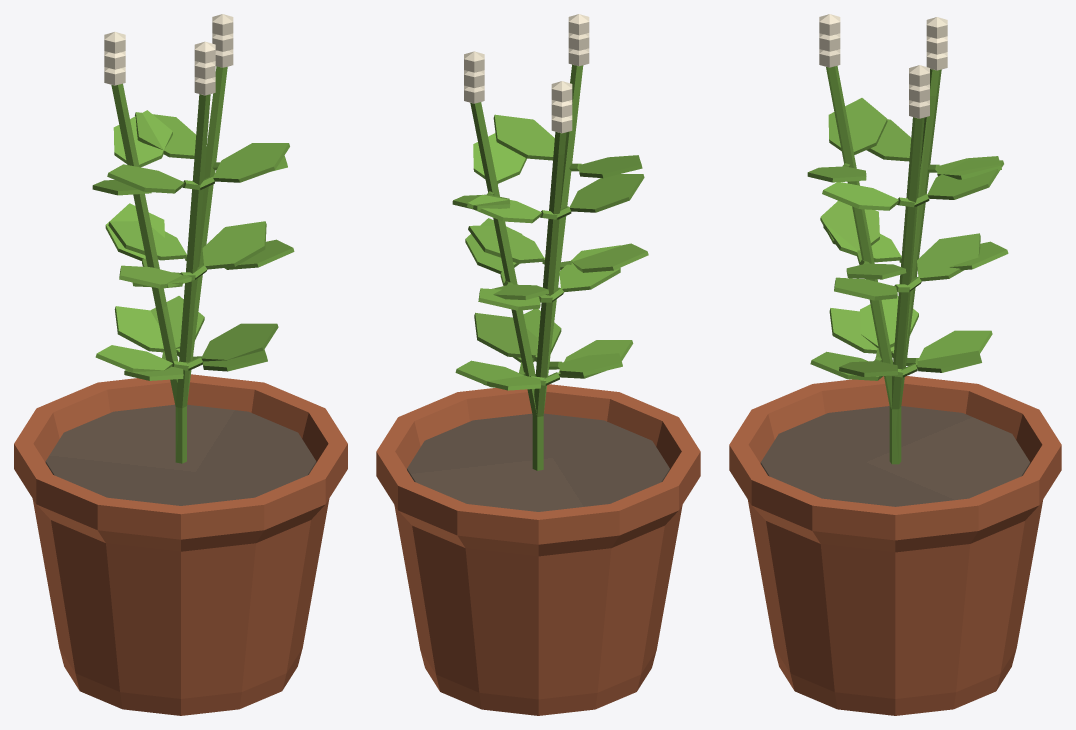
The model's file is basil.glb.
3 views of the same model, side by side, from view 1: azimuth 30°, elevation 25°; view 2: azimuth 150°, elevation 25°; view 3: azimuth 270°, elevation 25° (orthographic). The views are drawn at different scales.
Parts seen in each view (by area): view 1: basil/review-terra-vessel, basil/review-rooted-soil, basil/stem-017, basil/stem-001, basil/stem-033, basil/leaf-025, basil/leaf-029, basil/leaf-021, basil/leaf-045, basil/leaf-037, basil/leaf-041, basil/leaf-011 (+9 smaller); view 2: basil/review-terra-vessel, basil/review-rooted-soil, basil/stem-001, basil/stem-033, basil/stem-017, basil/leaf-029, basil/leaf-013, basil/leaf-021, basil/leaf-025, basil/leaf-043, basil/leaf-009, basil/leaf-023 (+11 smaller); view 3: basil/review-terra-vessel, basil/review-rooted-soil, basil/stem-033, basil/stem-017, basil/stem-001, basil/leaf-041, basil/leaf-027, basil/leaf-045, basil/leaf-023, basil/leaf-037, basil/leaf-043, basil/leaf-005 (+11 smaller).
Boxes of the visible parts, box(x1,y1,x2,y2) form: basil/review-terra-vessel: box(14, 374, 347, 715); basil/review-rooted-soil: box(45, 404, 316, 505); basil/stem-017: box(175, 94, 210, 460); basil/stem-001: box(111, 83, 182, 463); basil/stem-033: box(182, 66, 227, 463); basil/leaf-025: box(202, 221, 266, 269); basil/leaf-029: box(213, 143, 289, 182); basil/leaf-021: box(201, 323, 278, 361); basil/leaf-045: box(135, 112, 196, 158); basil/leaf-037: box(114, 306, 179, 352); basil/leaf-041: box(108, 221, 186, 260); basil/leaf-011: box(113, 110, 172, 167); basil/review-terra-vessel: box(376, 384, 700, 715); basil/review-rooted-soil: box(407, 413, 669, 511); basil/stem-001: box(532, 132, 566, 470); basil/stem-033: box(470, 102, 543, 470); basil/stem-017: box(540, 64, 583, 467); basil/leaf-029: box(493, 114, 554, 160); basil/leaf-013: box(569, 174, 644, 212); basil/leaf-021: box(474, 312, 537, 358); basil/leaf-025: box(468, 225, 543, 263); basil/leaf-043: box(473, 133, 526, 183); basil/leaf-009: box(559, 245, 620, 291); basil/leaf-023: box(572, 243, 648, 272); basil/review-terra-vessel: box(729, 376, 1061, 715); basil/review-rooted-soil: box(760, 406, 1030, 506); basil/stem-033: box(889, 117, 924, 463); basil/stem-017: box(826, 65, 898, 464); basil/stem-001: box(896, 69, 941, 463); basil/leaf-041: box(917, 233, 980, 281); basil/leaf-027: box(828, 98, 887, 154); basil/leaf-045: box(927, 160, 1003, 199); basil/leaf-023: box(820, 200, 879, 250); basil/leaf-037: box(915, 330, 992, 368); basil/leaf-043: box(822, 182, 898, 210); basil/leaf-005: box(829, 308, 894, 353).
Bounding box in the file's own units: 0.19 × 0.409 × 0.19.
4 materials, 4 textured.
